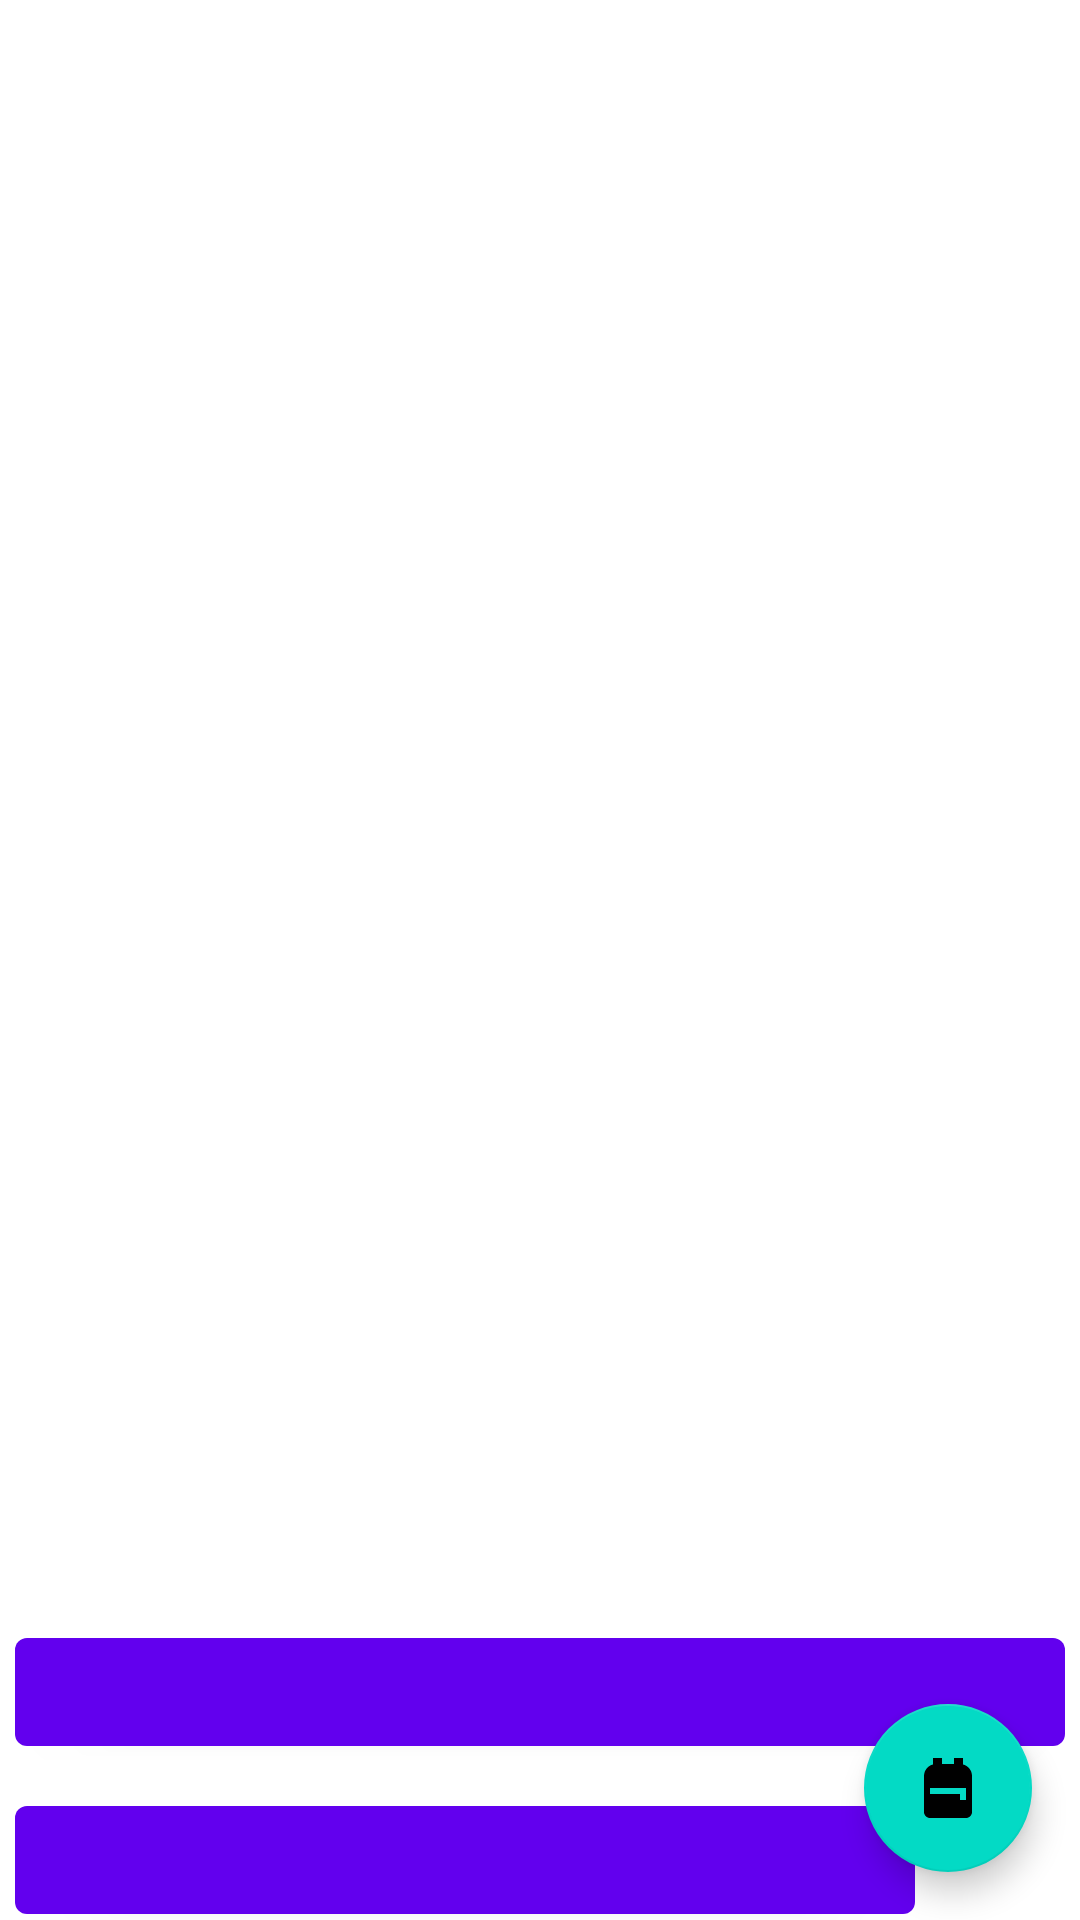

Screen size 1080w x 1920h. Icon name, then its center in pixels as (x,y):
backpack: (948,1788)
